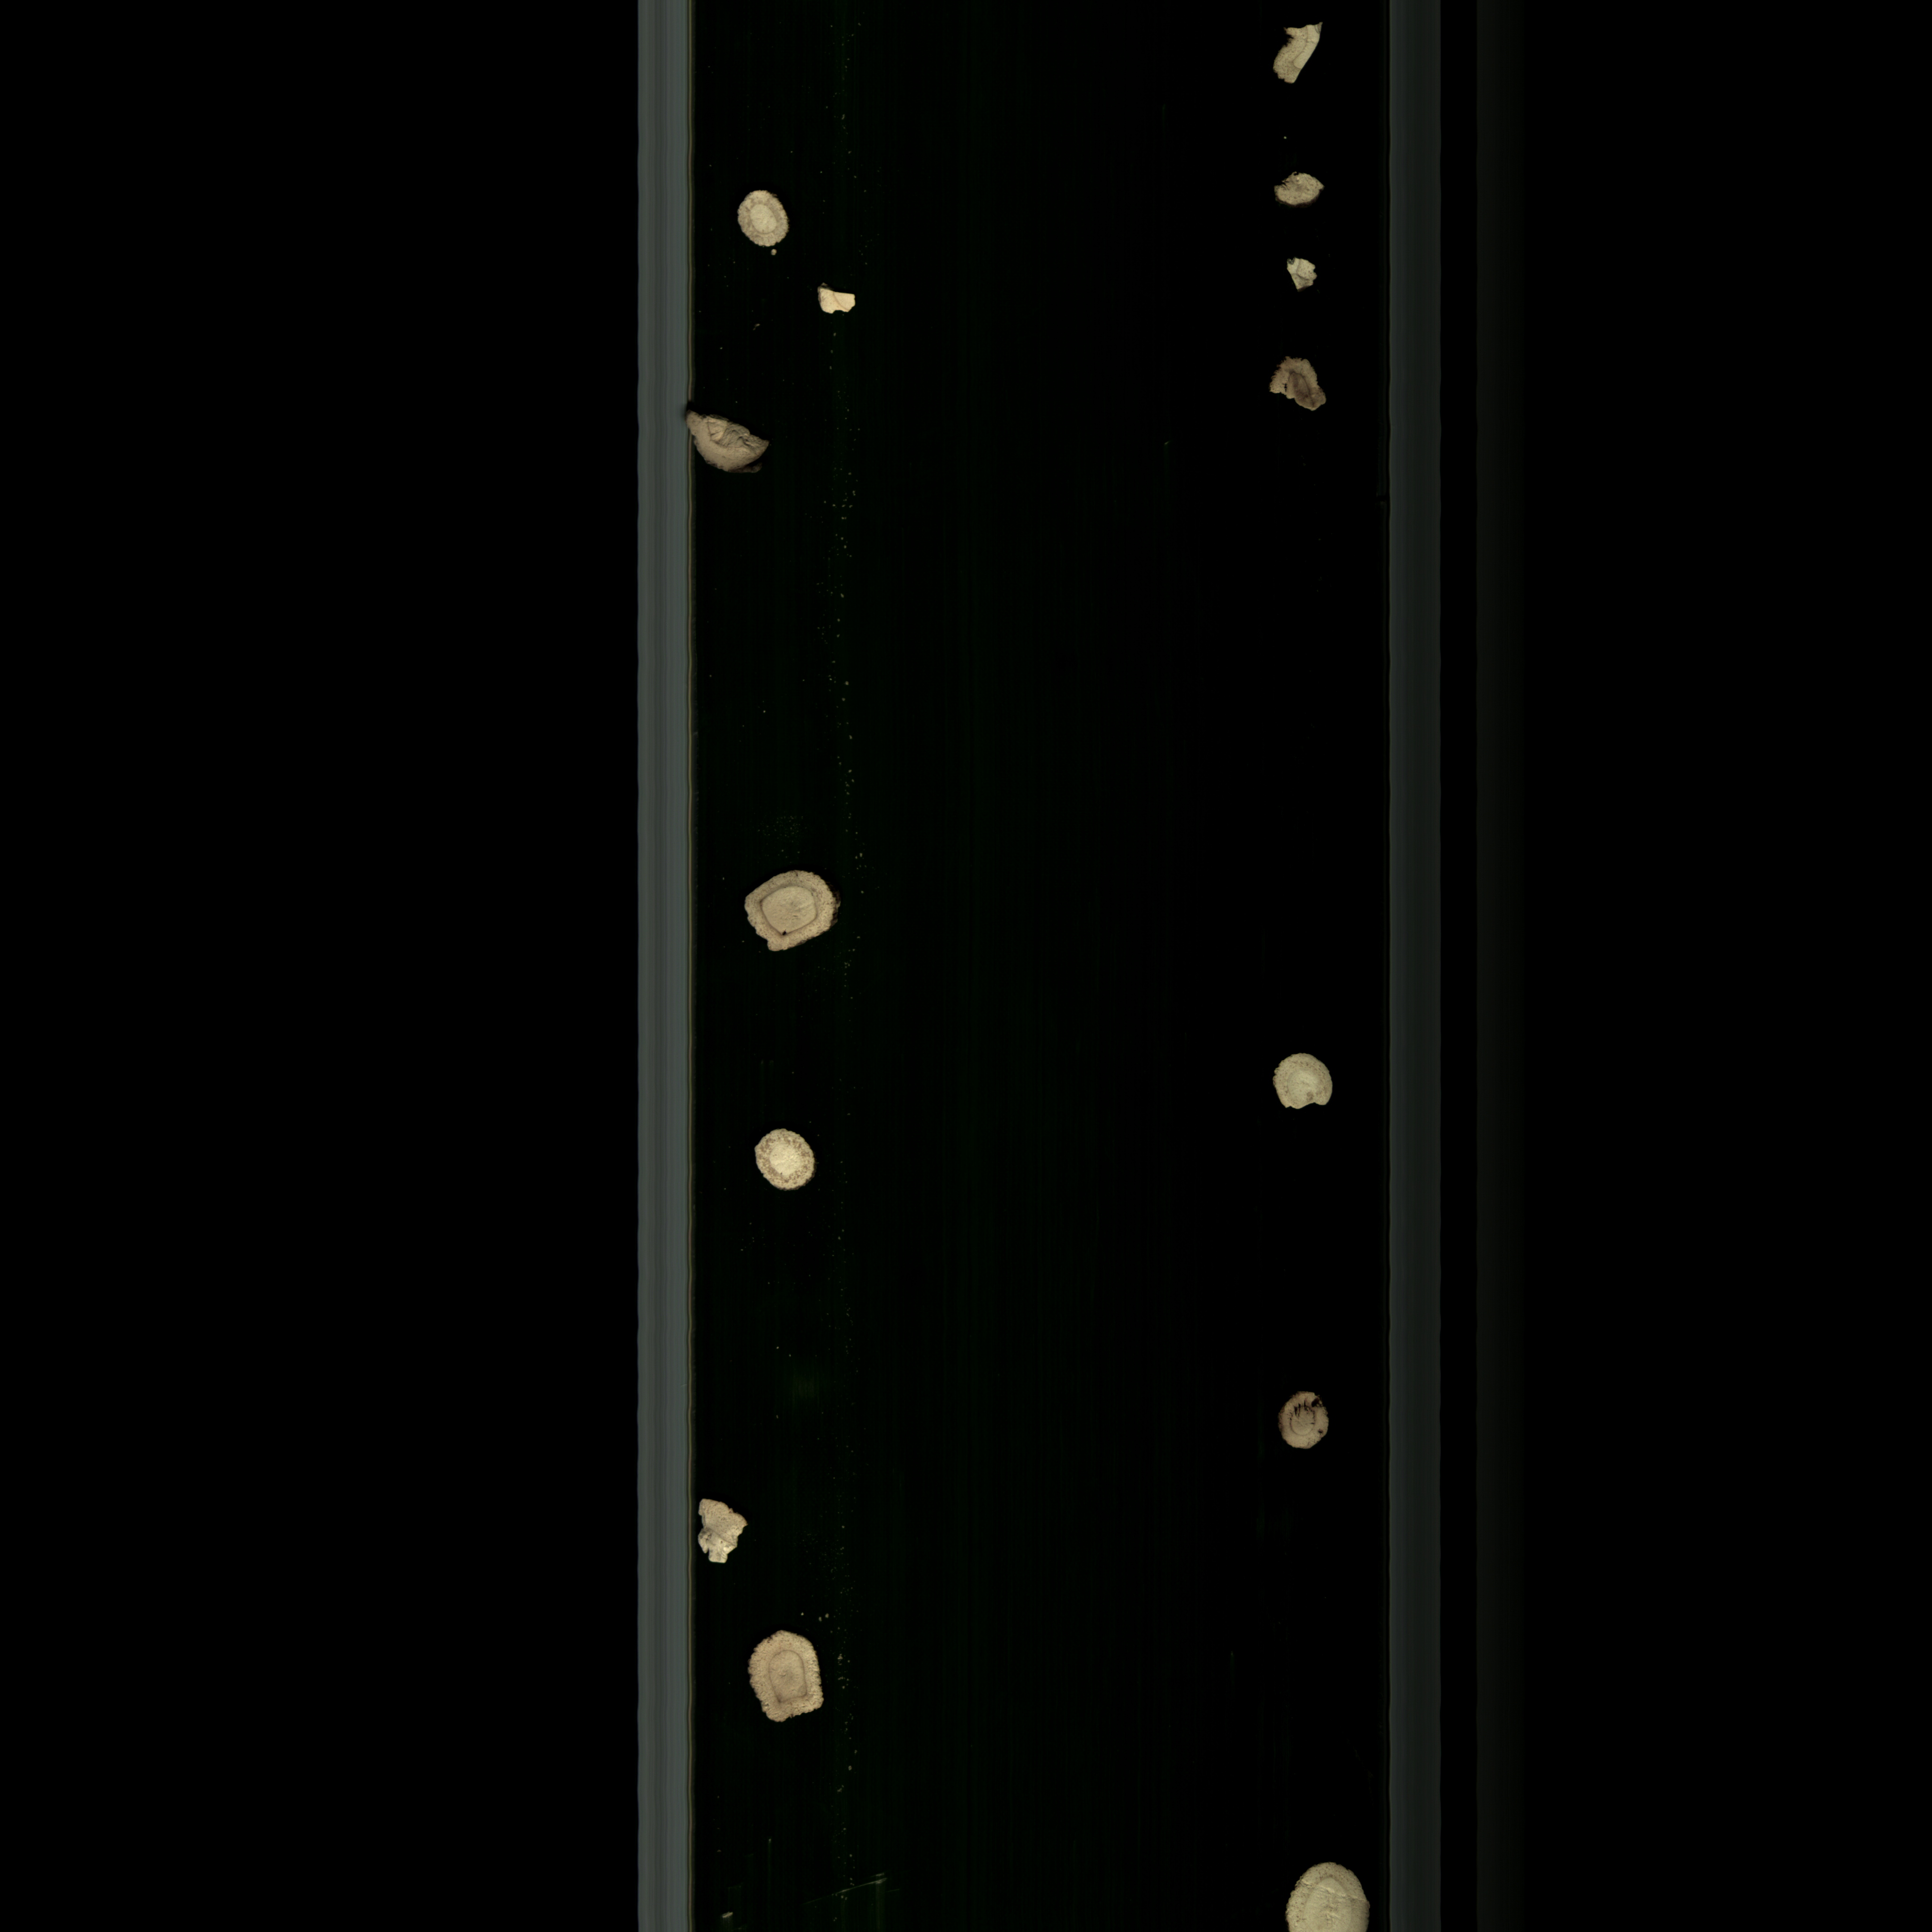debris: (674, 403, 786, 483), (1263, 1044, 1339, 1118), (692, 1491, 757, 1573), (1281, 249, 1325, 303)
distortion: (732, 865, 856, 959), (734, 1628, 835, 1730), (1270, 14, 1323, 92), (1261, 166, 1338, 218)
dreg: (798, 278, 863, 324)
moldy: (1267, 1385, 1348, 1460), (1254, 352, 1332, 421)
